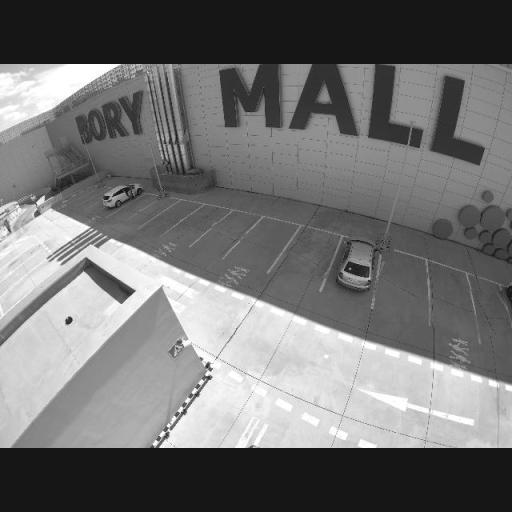busy: (334, 235, 384, 291), (100, 184, 145, 210)
free: (376, 264, 427, 304), (430, 280, 472, 328), (286, 242, 332, 276), (476, 292, 511, 335), (240, 232, 282, 261), (210, 223, 241, 244), (187, 215, 213, 230), (142, 203, 160, 218), (128, 200, 149, 212), (163, 212, 183, 222), (72, 192, 88, 202), (86, 198, 102, 205)
